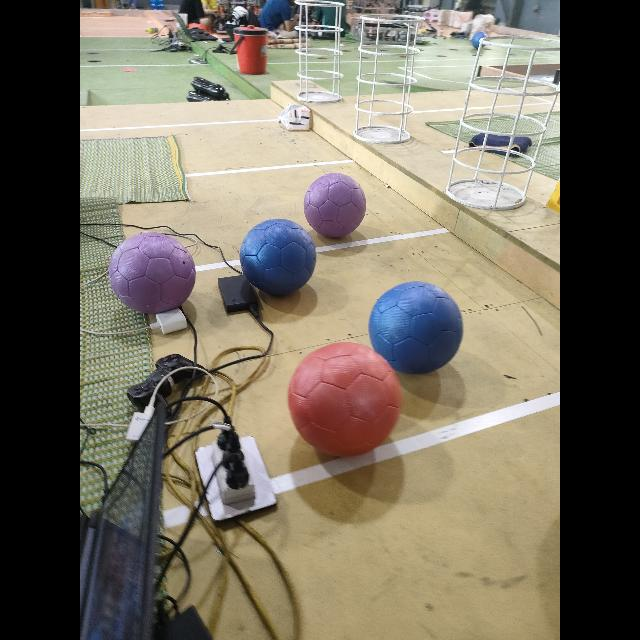B: (369, 281, 463, 373), (240, 219, 316, 295)
P: (108, 233, 195, 313), (304, 173, 366, 237)
R: (288, 342, 400, 456)
